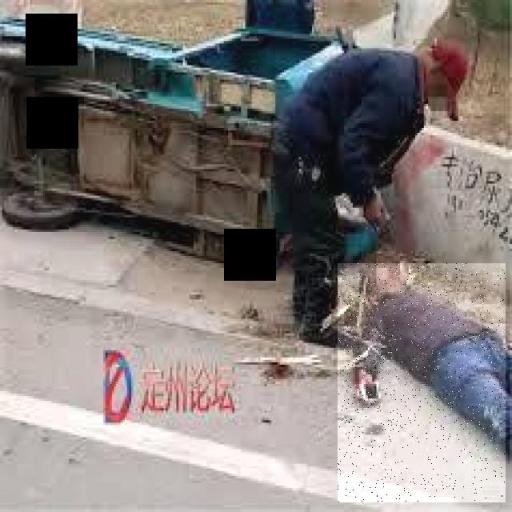Fall: (338, 264, 506, 503)
